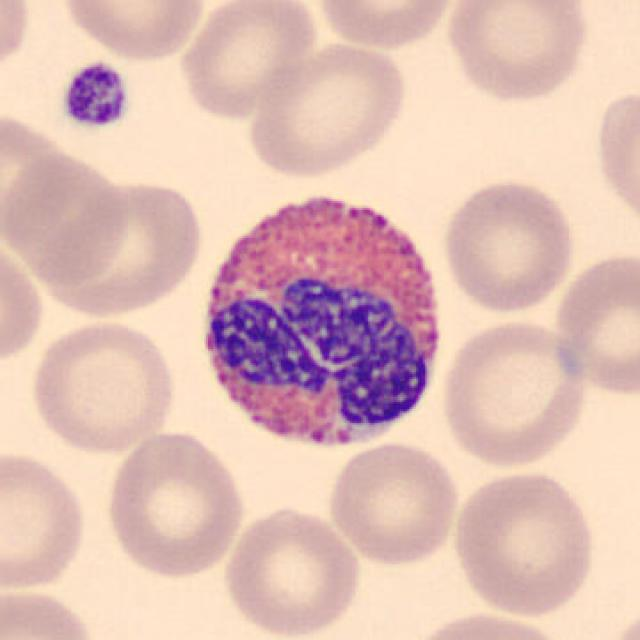Eosinophil: (187, 172, 455, 464)
Platelets: (57, 58, 131, 132)
RBC: (36, 173, 208, 321), (242, 37, 410, 180), (448, 464, 601, 619), (437, 316, 592, 469), (101, 427, 247, 580), (25, 316, 179, 456), (437, 174, 578, 316), (218, 502, 364, 638), (324, 439, 464, 568), (174, 0, 322, 122), (441, 0, 594, 104), (549, 245, 640, 400), (0, 446, 91, 594), (0, 117, 77, 246), (55, 0, 209, 63), (311, 0, 462, 51), (590, 81, 638, 235), (0, 233, 46, 374), (0, 583, 99, 640), (402, 608, 570, 640), (0, 0, 34, 85), (603, 601, 638, 640)
